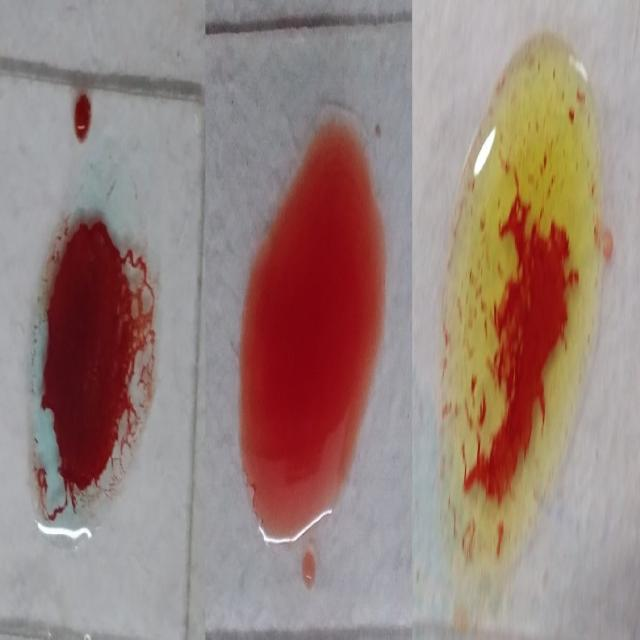A: (27, 151, 157, 547)
B: (441, 27, 598, 583)
